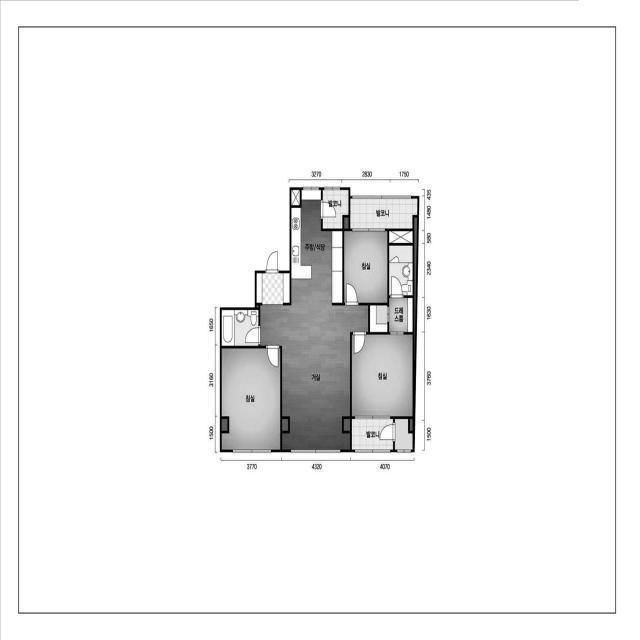space_balconi: (350, 199, 417, 229), (352, 419, 393, 450), (323, 190, 349, 229)
space_bedroom: (222, 348, 280, 450), (352, 335, 412, 416), (344, 231, 387, 303)
space_dressroom: (370, 298, 413, 333)
space_front: (256, 273, 290, 305)
space_kitchen: (291, 190, 342, 305)
space_living_room: (260, 305, 368, 450)
space_other: (395, 419, 412, 450), (389, 231, 413, 244), (291, 190, 300, 205), (282, 419, 288, 431), (222, 419, 228, 431), (344, 419, 350, 431), (344, 218, 349, 229), (410, 419, 413, 431), (257, 306, 258, 307)
space_toilet: (221, 310, 259, 346), (389, 246, 413, 296)
